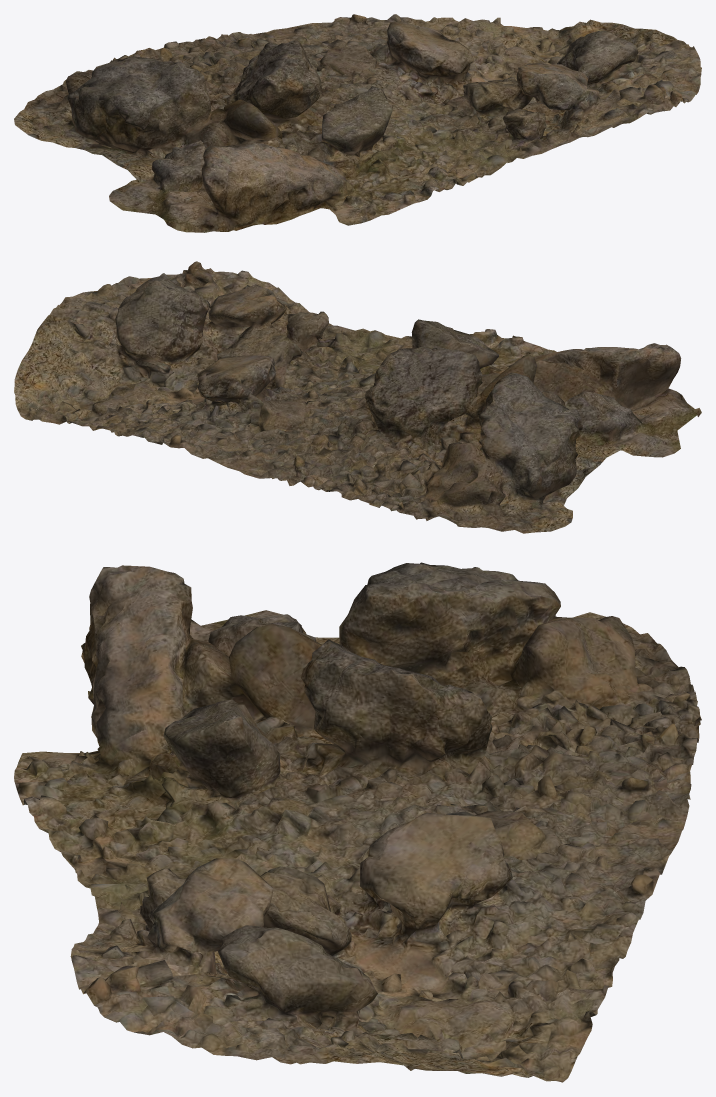
File: outcrop.glb
3 views of the same model, one above another, from view 1: azimuth 30°, elevation 25°; view 2: azimuth 150°, elevation 25°; view 3: azimuth 270°, elevation 25° (orthographic). The views are drawn at different scales.
Parts seen in each view (by area): view 1: coast_land_rocks_03; view 2: coast_land_rocks_03; view 3: coast_land_rocks_03.
Part boxes in pixels (x1,y1,x2,y2): coast_land_rocks_03: [14, 14, 701, 232]; coast_land_rocks_03: [14, 261, 701, 533]; coast_land_rocks_03: [14, 562, 701, 1082].
Size of the model in its own units: 8.99 by 1.53 by 5.65.
Materials: 1 (1 with a texture image).
